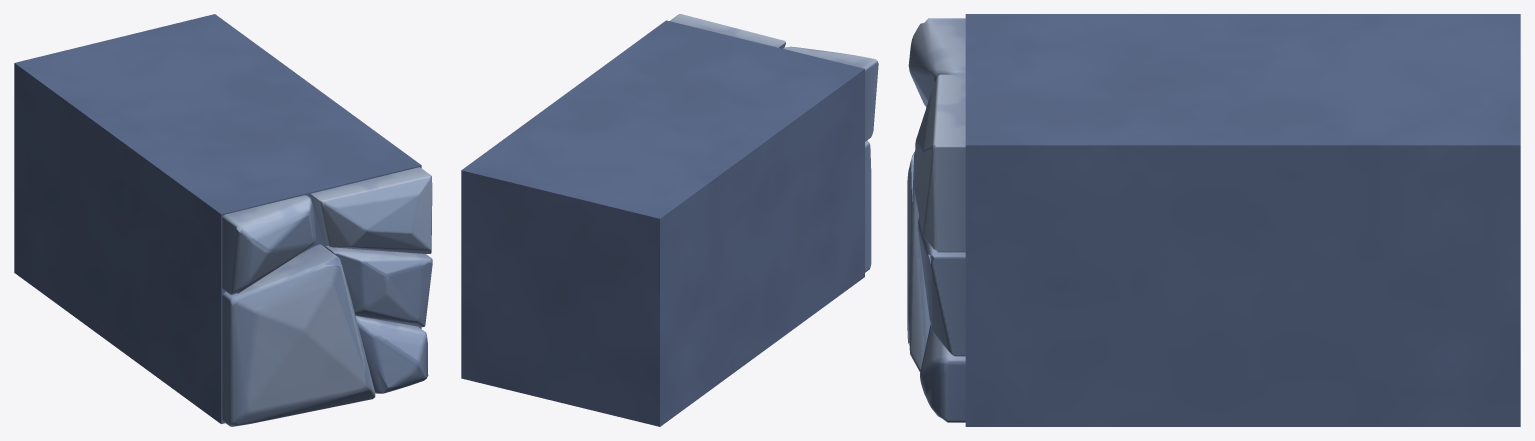
Rendered from FP_T04_IceRockCore_V3.fbx.
3 renders of one model, left to right at view 1: azimuth 30°, elevation 25°; view 2: azimuth 150°, elevation 25°; view 3: azimuth 270°, elevation 25°, orthographic. The views are drawn at different scales.
Parts seen in each view (by area): view 1: Rock; view 2: Rock; view 3: Rock.
Part boxes in pixels (x1=…): Rock: x1=14, y1=14, x2=432, y2=426; Rock: x1=461, y1=14, x2=878, y2=426; Rock: x1=907, y1=14, x2=1520, y2=426.
Size of the model in its own units: 2 by 2 by 3.94.
